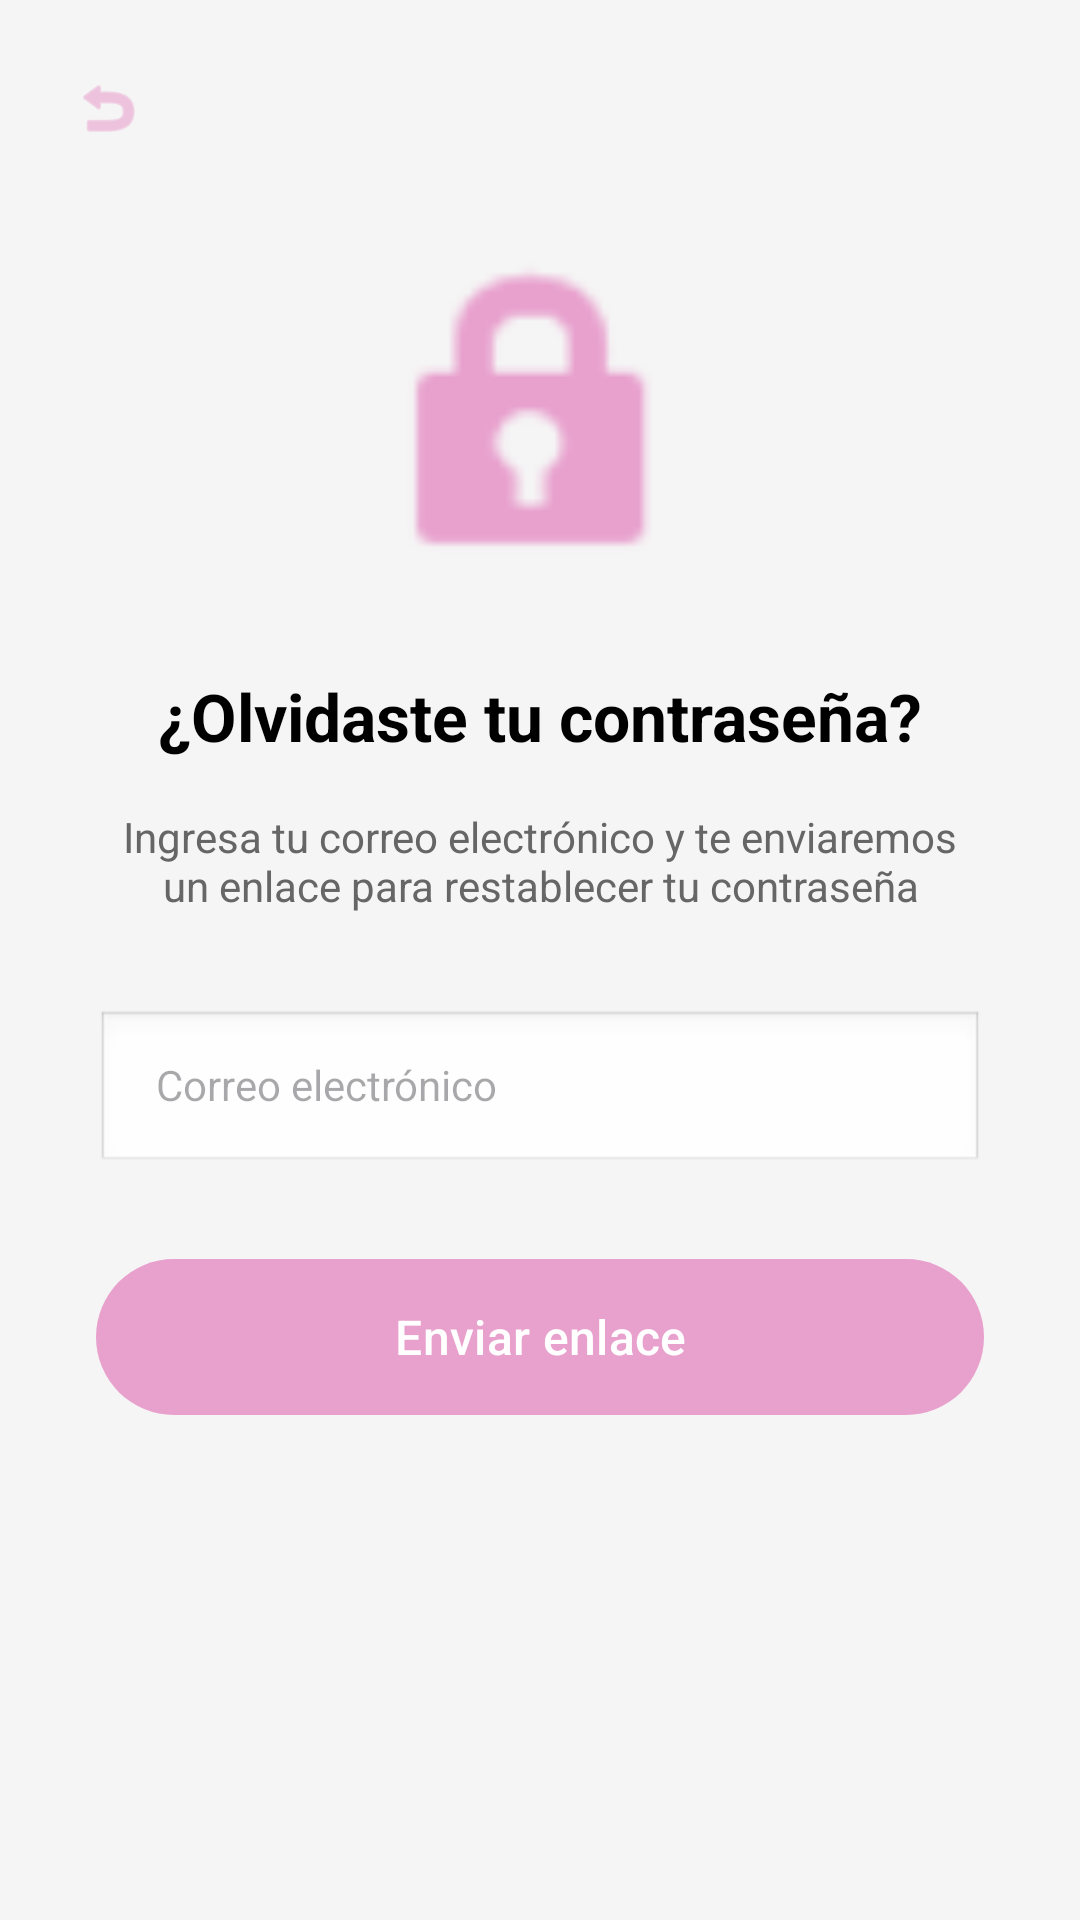

Locate icon controls on the screen. Image size 1080w x 1920h, boxes as (x1, y1, x2, y2).
Back: (83, 86, 134, 131)
Lock: (415, 273, 646, 545)
